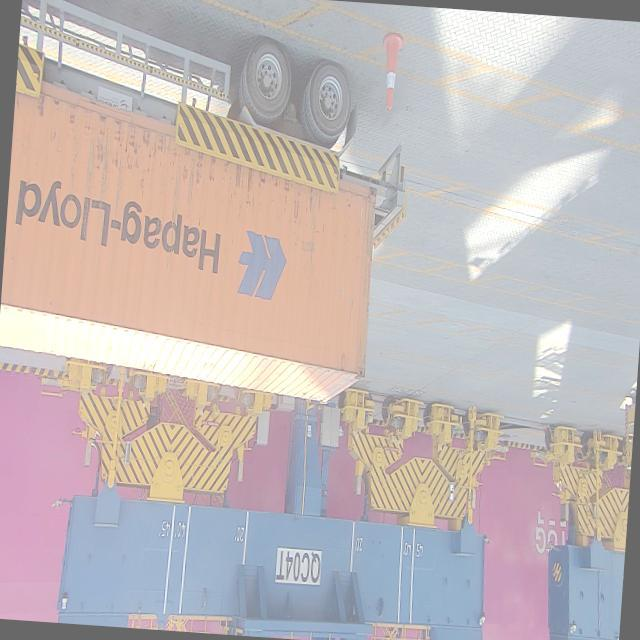rust: (94, 123, 140, 182), (169, 164, 184, 239)
